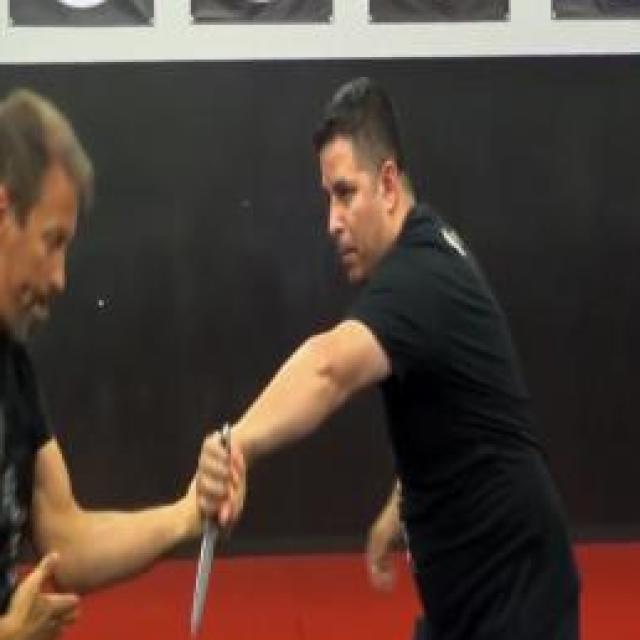knife: (186, 419, 241, 640)
